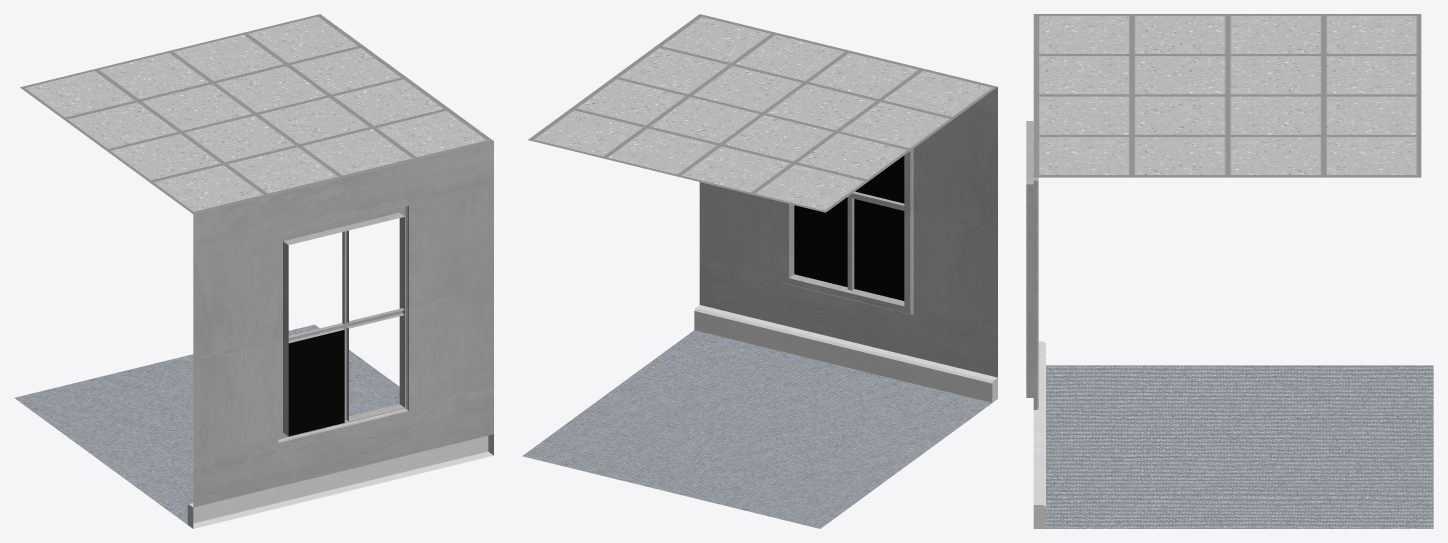
The model's file is Office_WallWindow.fbx.
3 renders of one model, left to right at view 1: azimuth 30°, elevation 25°; view 2: azimuth 150°, elevation 25°; view 3: azimuth 270°, elevation 25°, orthographic. The views are drawn at different scales.
Parts seen in each view (by area): view 1: pCube6, pCube10, pCube7; view 2: pCube6, pCube7, pCube10; view 3: pCube10, pCube7, pCube6.
Boxes of the visible parts, x1=… form: pCube6: x1=187, y1=141, x2=493, y2=528; pCube10: x1=20, y1=14, x2=493, y2=214; pCube7: x1=14, y1=324, x2=399, y2=524; pCube6: x1=694, y1=87, x2=997, y2=402; pCube7: x1=522, y1=330, x2=991, y2=528; pCube10: x1=528, y1=14, x2=997, y2=212; pCube10: x1=1033, y1=14, x2=1421, y2=177; pCube7: x1=1046, y1=365, x2=1433, y2=528; pCube6: x1=1026, y1=121, x2=1045, y2=528.
Bounding box in the file's own units: 3.5 × 3.5 × 3.68.
2 materials, 1 textured.
